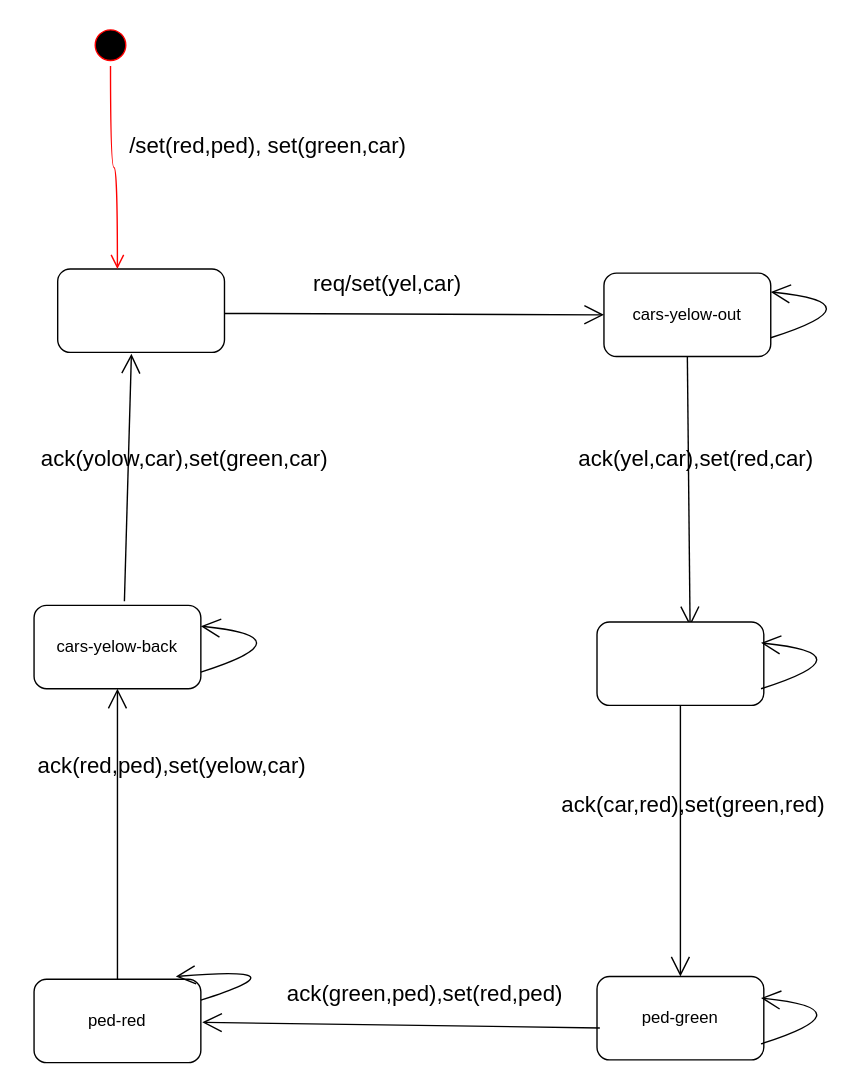
Image size: 859x1087. Some labels were removed from this diagram. Each missing label, with the centre of its shape:
"cars-red" goes at (x=680, y=663).
"green-car" goes at (x=140, y=310).
